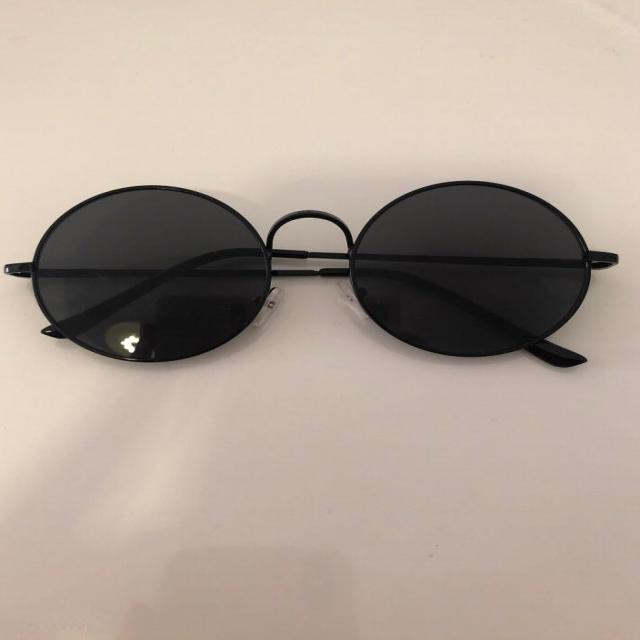Glasses: (0, 168, 633, 379)
